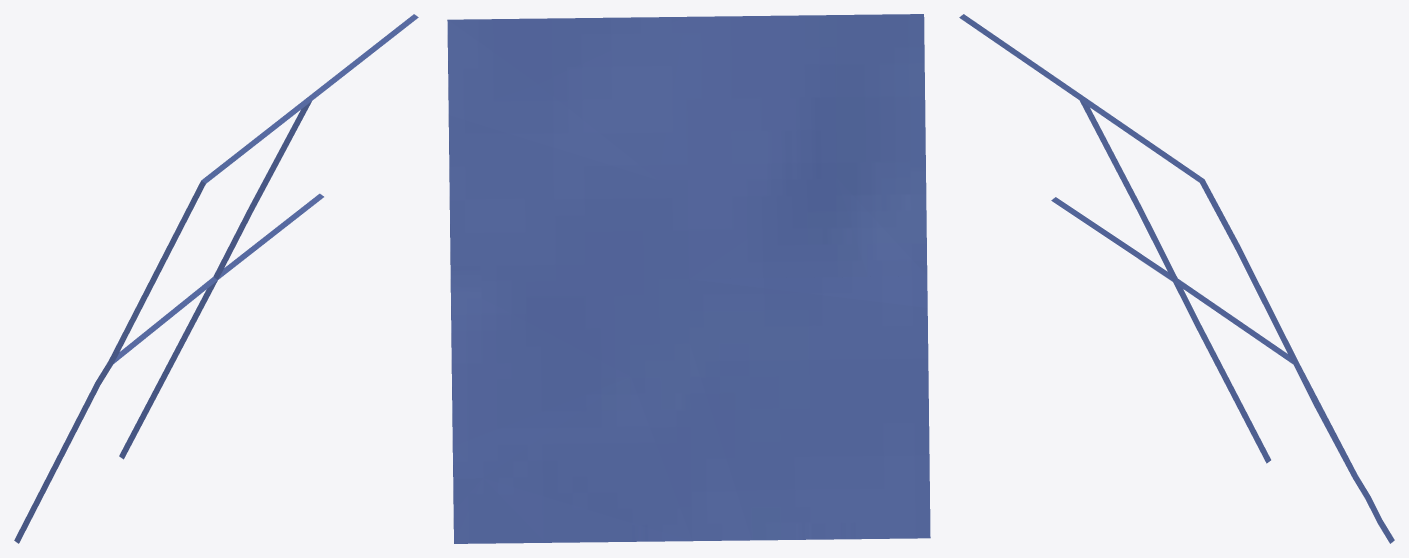
3 views of the same model, side by side, from view 1: azimuth 30°, elevation 25°; view 2: azimuth 150°, elevation 25°; view 3: azimuth 270°, elevation 25° (orthographic). The views are drawn at different scales.
Bounding box in the file's own units: 4906 × 4424 × 4208.
Materials: 1 (1 with a texture image).
